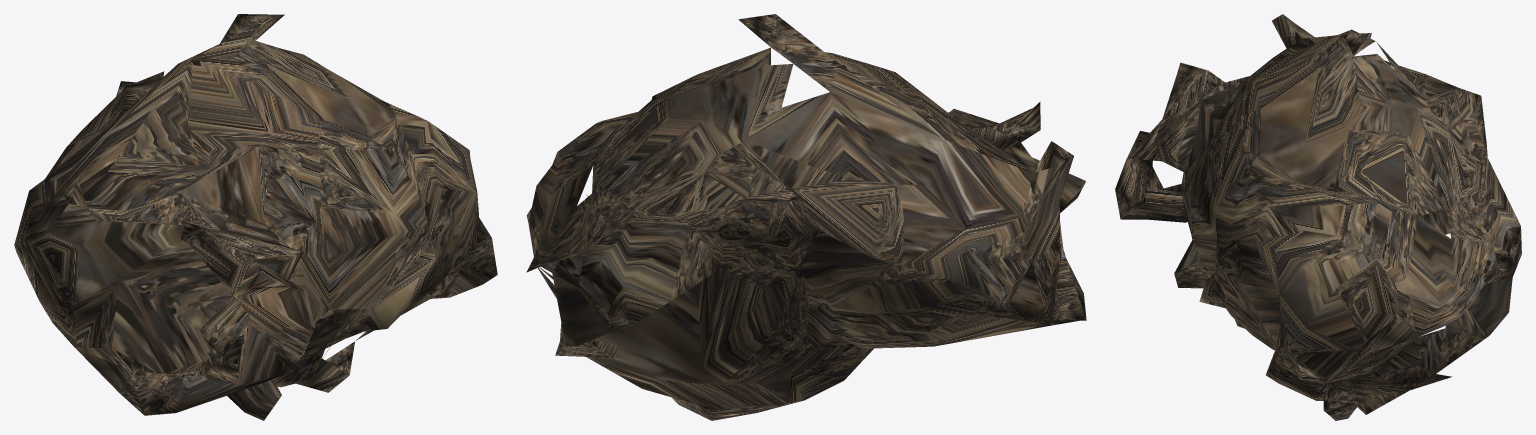
File: scrap.glb
3 views of the same model, side by side, from view 1: azimuth 30°, elevation 25°; view 2: azimuth 150°, elevation 25°; view 3: azimuth 270°, elevation 25° (orthographic). The views are drawn at different scales.
Visible parts, largest first — view 1: scrap; view 2: scrap; view 3: scrap.
Boxes of the visible parts, x1,y1,x2,y2 form: scrap: [14, 14, 497, 420]; scrap: [526, 14, 1086, 420]; scrap: [1115, 14, 1521, 420].
Bounding box in the file's own units: 0.988 × 0.833 × 0.8553.
1 material, 1 textured.
